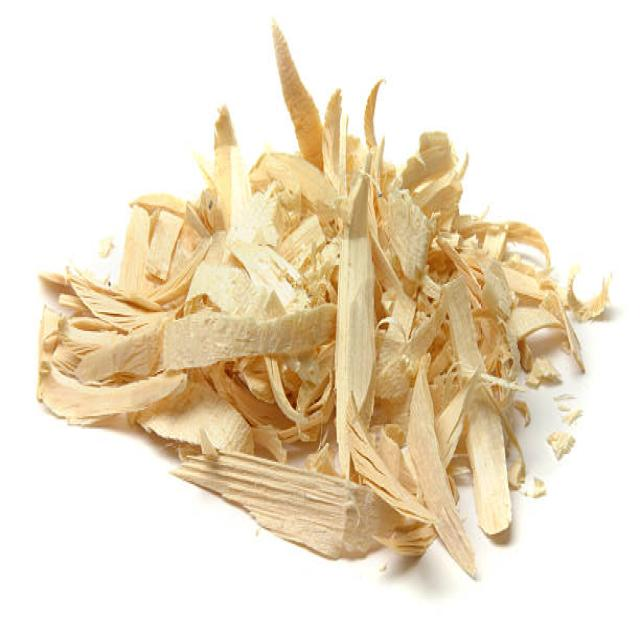cardboard: (45, 74, 572, 588)
